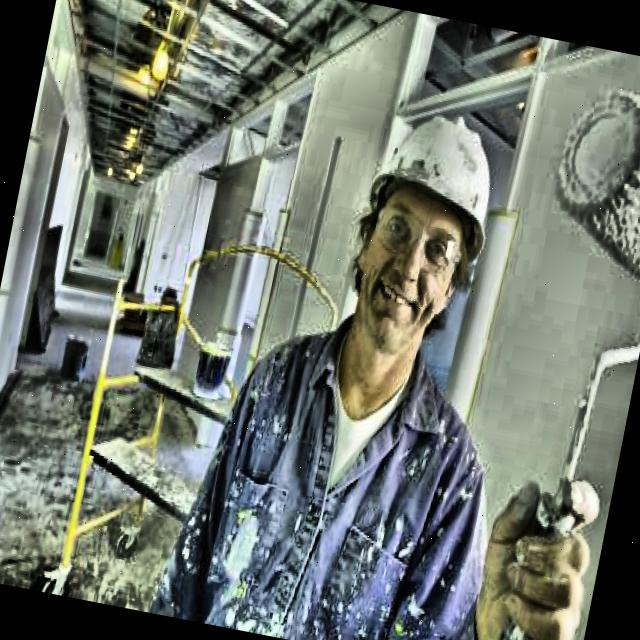helmet: (314, 62, 524, 423)
